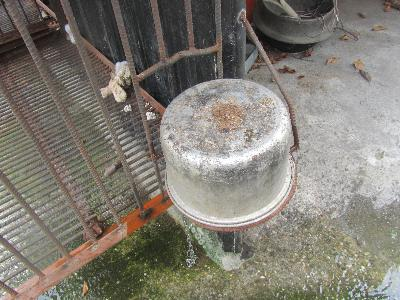bowl: (155, 75, 302, 236), (250, 1, 338, 47)
